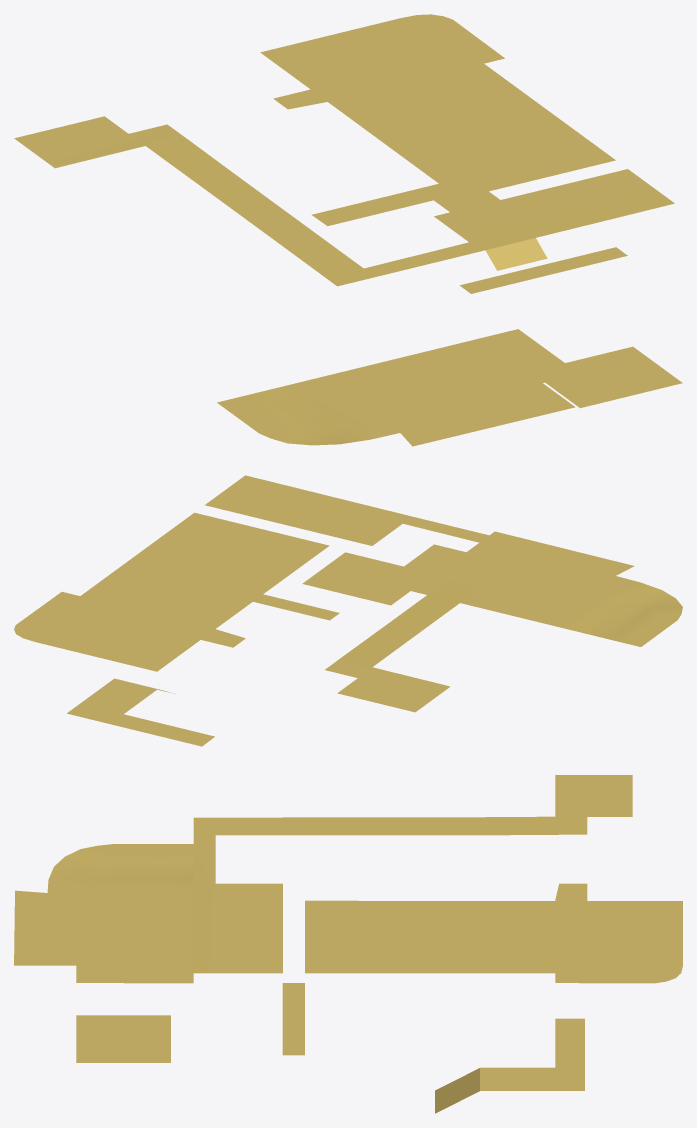
The model's file is Ceiling.fbx.
3 views of the same model, one above another, from view 1: azimuth 30°, elevation 25°; view 2: azimuth 150°, elevation 25°; view 3: azimuth 270°, elevation 25° (orthographic). The views are drawn at different scales.
Visible parts, largest first — view 1: Ceiling; view 2: Ceiling; view 3: Ceiling.
Boxes of the visible parts, left/top/right/bottom form: Ceiling: left=14, top=14, right=682, bottom=446; Ceiling: left=14, top=475, right=682, bottom=746; Ceiling: left=14, top=775, right=682, bottom=1113.
Bounding box in the file's own units: 1307 × 387 × 1667.
